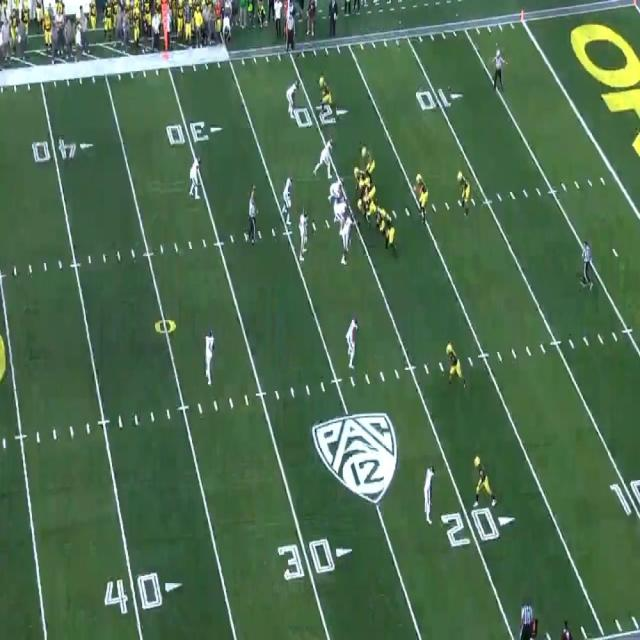center: (358, 198, 381, 225)
db: (424, 465, 438, 521), (345, 315, 358, 368), (204, 329, 215, 379), (285, 77, 298, 118), (190, 156, 202, 200)
lb: (315, 134, 333, 177), (283, 174, 294, 226), (300, 210, 307, 252)
qb: (414, 172, 431, 220)
skill: (473, 456, 500, 510), (446, 341, 468, 387), (456, 171, 471, 212), (320, 75, 333, 113), (361, 144, 373, 172)
